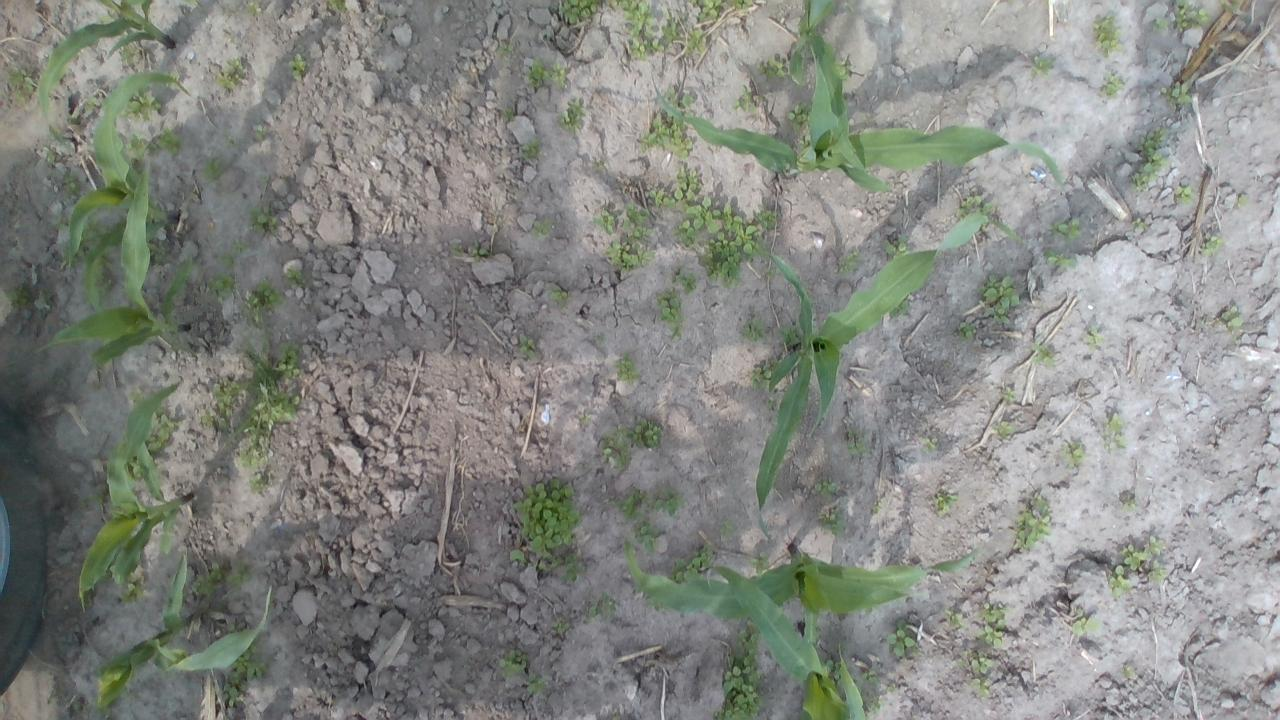Weeds: (512, 478, 582, 560), (713, 653, 764, 720), (721, 203, 765, 260), (1131, 126, 1170, 190), (640, 114, 694, 160), (1010, 492, 1052, 551), (674, 197, 721, 248), (232, 390, 300, 424), (700, 232, 741, 288), (976, 272, 1020, 323), (226, 637, 268, 685), (605, 0, 658, 38), (142, 405, 179, 455), (664, 166, 703, 210), (244, 345, 276, 395), (246, 280, 283, 323), (118, 86, 162, 122), (598, 425, 632, 470), (672, 547, 714, 583), (604, 241, 652, 272), (976, 603, 1008, 646), (656, 288, 682, 340), (1094, 13, 1125, 56), (606, 490, 648, 521), (957, 195, 992, 231), (1172, 0, 1210, 33), (886, 619, 918, 658), (622, 204, 652, 244), (272, 340, 302, 380), (556, 99, 588, 135), (749, 360, 786, 391), (632, 517, 662, 555), (212, 376, 238, 417), (652, 486, 685, 518), (123, 132, 157, 162), (613, 351, 642, 386), (734, 618, 762, 654), (561, 0, 601, 25), (632, 417, 664, 448), (1100, 412, 1126, 450), (193, 562, 222, 596), (79, 214, 106, 250), (661, 10, 687, 47), (230, 423, 271, 446), (94, 256, 114, 302), (207, 271, 234, 305), (498, 649, 528, 679), (1070, 608, 1102, 636), (3, 66, 36, 93), (740, 314, 769, 344), (248, 204, 278, 233), (821, 505, 848, 537), (118, 570, 145, 602), (1096, 70, 1124, 100), (217, 58, 244, 89), (630, 36, 664, 60), (787, 101, 814, 131), (1161, 82, 1192, 108), (1108, 564, 1132, 597), (524, 56, 548, 88), (1060, 440, 1086, 469), (588, 592, 615, 619), (1050, 218, 1081, 241), (158, 127, 182, 156), (824, 657, 845, 690), (756, 56, 786, 79), (664, 87, 694, 110), (733, 85, 758, 112), (862, 688, 886, 716), (1120, 544, 1146, 569), (594, 210, 620, 235), (562, 556, 586, 583), (1044, 248, 1076, 268), (1220, 305, 1245, 330), (1029, 340, 1054, 365), (883, 234, 909, 258), (5, 284, 32, 307), (668, 272, 696, 294), (1084, 325, 1108, 350), (238, 447, 268, 467), (846, 428, 868, 455), (1200, 233, 1224, 257), (934, 492, 958, 516), (1030, 55, 1054, 78), (222, 683, 246, 706), (227, 563, 250, 587), (1146, 559, 1168, 584), (548, 62, 568, 89), (127, 452, 145, 481), (686, 28, 706, 54), (699, 0, 722, 22), (146, 241, 169, 263), (62, 243, 84, 266), (756, 206, 778, 229), (814, 475, 838, 496), (970, 652, 994, 673), (98, 556, 116, 584), (120, 44, 142, 66), (776, 324, 800, 344), (288, 53, 307, 78), (838, 250, 859, 272), (202, 158, 223, 180), (284, 264, 306, 285), (941, 608, 964, 628), (953, 321, 977, 340), (61, 174, 80, 198), (518, 334, 536, 359), (1174, 184, 1194, 206), (550, 285, 570, 307), (200, 413, 229, 428), (752, 550, 770, 574), (1146, 536, 1166, 556), (972, 676, 992, 696), (526, 674, 546, 694), (522, 138, 542, 158), (96, 696, 118, 714), (248, 472, 266, 494), (50, 210, 68, 232), (835, 56, 851, 80), (889, 300, 910, 318), (992, 419, 1014, 436), (532, 219, 552, 236), (38, 288, 56, 306), (162, 70, 180, 88), (645, 594, 665, 610), (233, 236, 250, 253), (862, 669, 880, 685), (552, 618, 570, 634), (219, 250, 235, 268), (128, 388, 144, 406), (89, 490, 108, 505), (1151, 15, 1168, 31), (718, 520, 734, 537), (650, 187, 664, 206), (1218, 0, 1242, 11), (726, 0, 752, 10), (1122, 494, 1138, 510), (1001, 386, 1016, 403), (508, 550, 526, 564), (43, 145, 56, 164), (1131, 216, 1148, 230), (82, 97, 99, 111), (244, 1, 262, 14), (798, 134, 813, 149), (923, 437, 938, 452), (471, 248, 488, 261), (498, 43, 518, 54), (502, 106, 515, 122), (99, 12, 116, 24), (833, 642, 848, 655), (13, 90, 28, 103), (1236, 192, 1248, 207), (593, 158, 605, 172), (223, 134, 235, 148), (252, 125, 264, 139), (330, 0, 346, 10), (71, 698, 84, 710), (1122, 665, 1134, 678), (765, 396, 777, 409), (452, 243, 464, 256), (225, 622, 238, 634), (65, 112, 80, 122), (764, 268, 778, 278), (120, 688, 134, 698), (578, 413, 590, 424), (873, 500, 884, 512), (78, 496, 88, 507), (260, 176, 270, 186), (1231, 336, 1240, 346), (552, 558, 562, 566), (538, 562, 546, 570), (886, 685, 894, 692), (597, 336, 605, 342), (182, 1, 198, 4), (612, 717, 620, 720), (692, 0, 698, 4)
